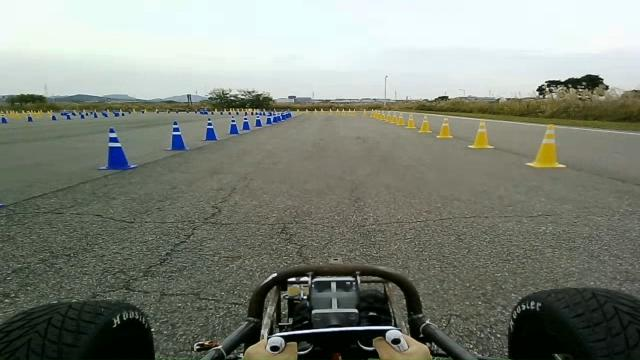blue cone: (97, 127, 138, 170), (164, 120, 190, 151), (202, 117, 219, 141), (228, 118, 240, 134), (241, 115, 251, 130), (254, 116, 263, 127), (265, 112, 273, 124)
yellow cone: (525, 124, 567, 168), (468, 118, 493, 149), (436, 116, 453, 138), (417, 114, 432, 133), (404, 113, 416, 129), (395, 114, 405, 126)
